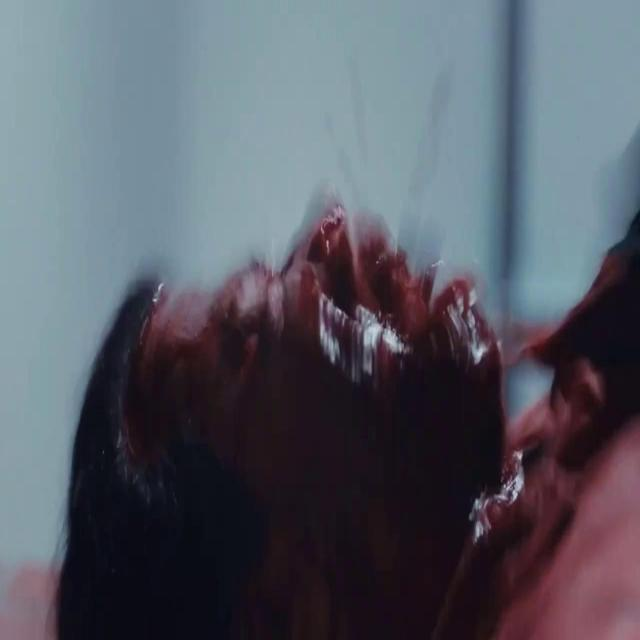flood: (298, 288, 542, 591)
